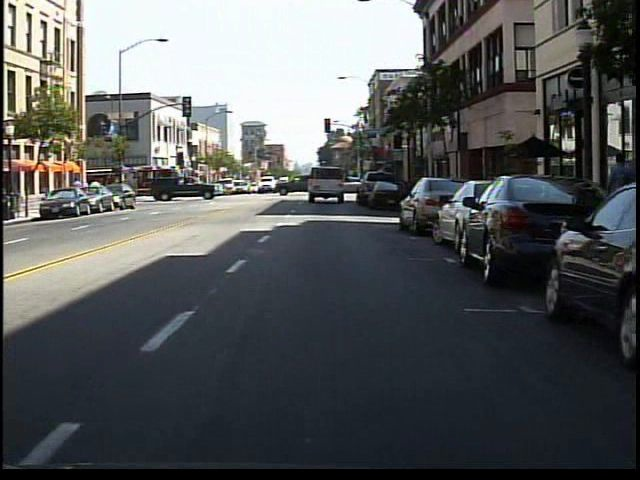person: (601, 147, 630, 245)
